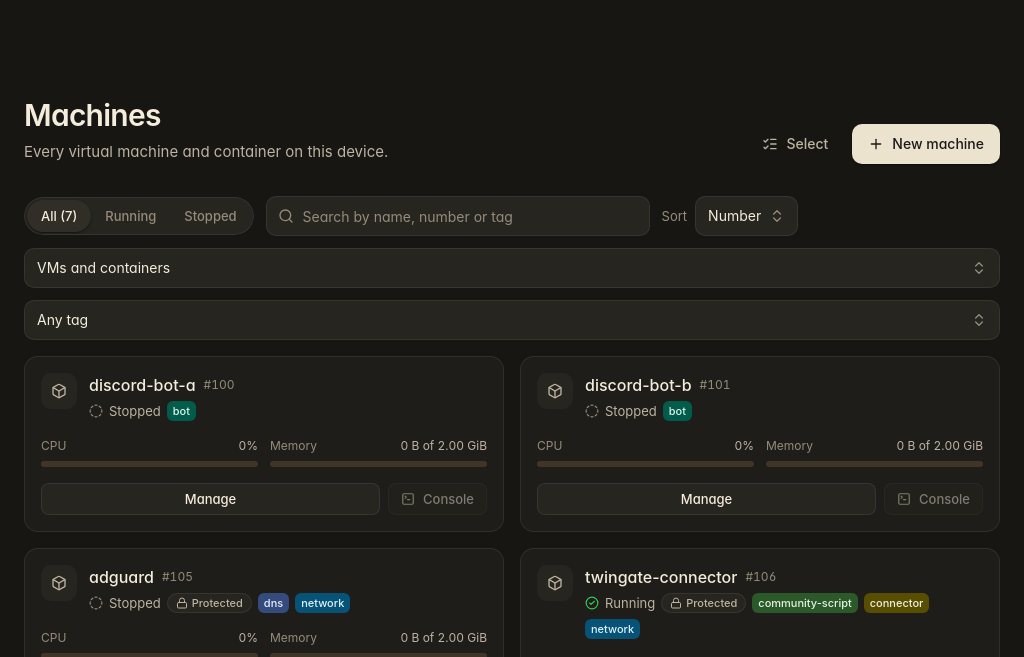
Test: power, console, snapshots, clone and delete › the machines list can select machines and asks for the count before shutting them down
Click the button "Select": x=795, y=144 [746, 124, 844, 164]
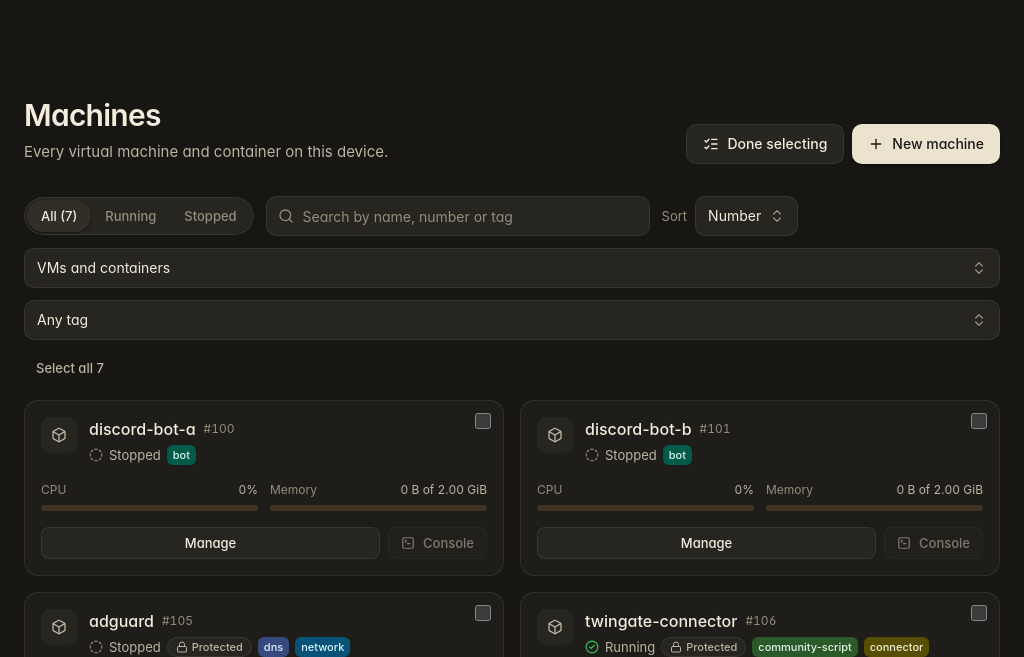
Click the checkbox named "Select discord-bot-a": x=483, y=421 [475, 413, 491, 429]
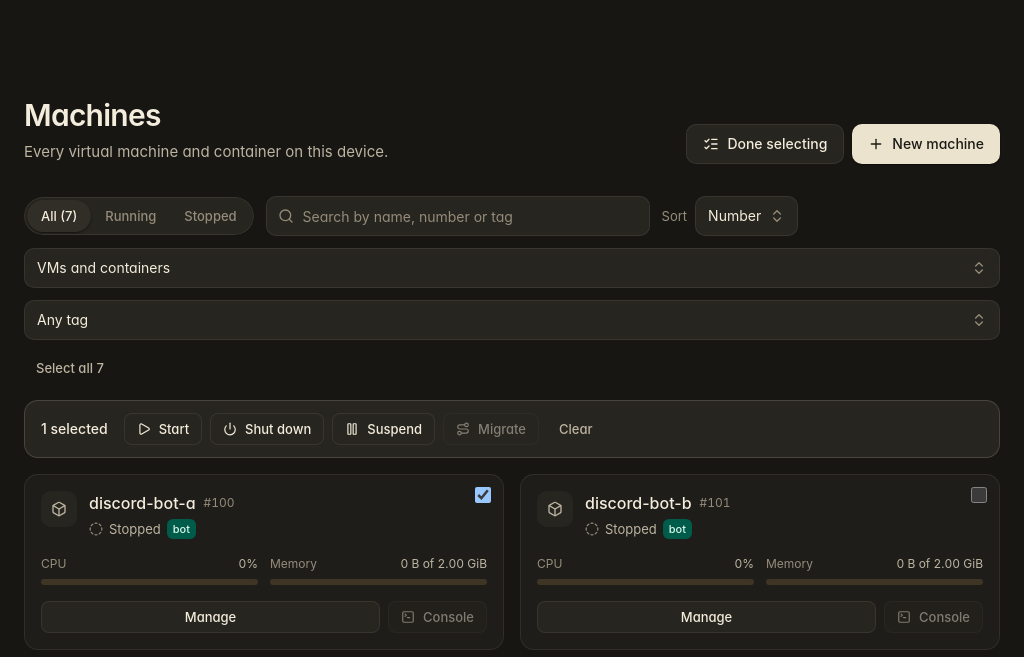
Check: the text "1 selected" is shown, box [41, 418, 108, 440]
Click the button "Shut down": x=267, y=429 [210, 413, 324, 445]
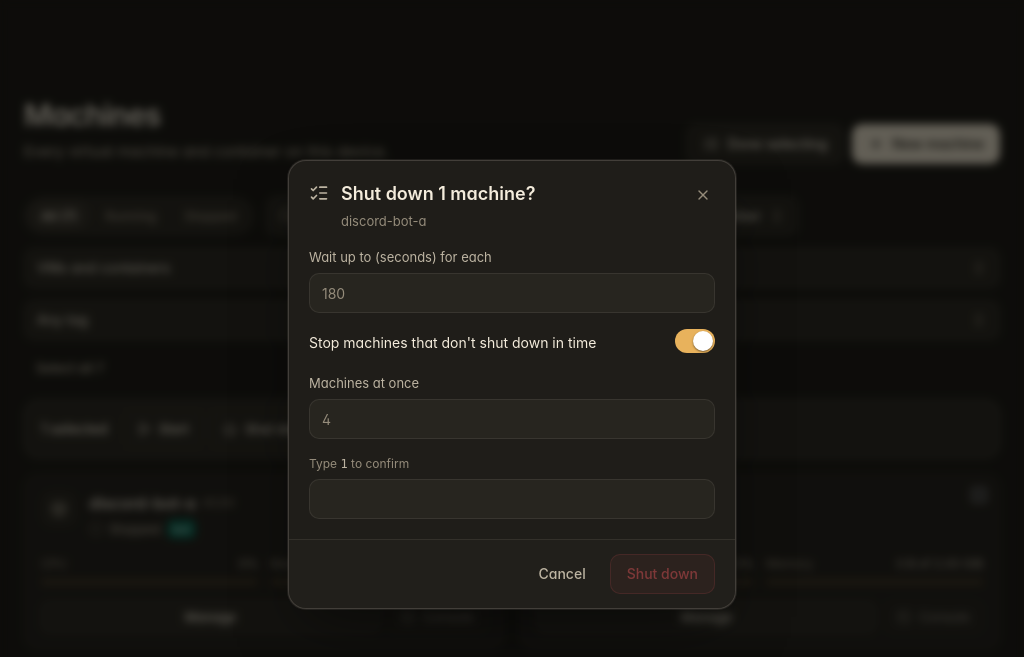
Check: the button "Shut down" is disabled, box [610, 554, 715, 594]
In the field labelled "Type 1 to confirm": x=512, y=498 [309, 478, 715, 518], type "1"
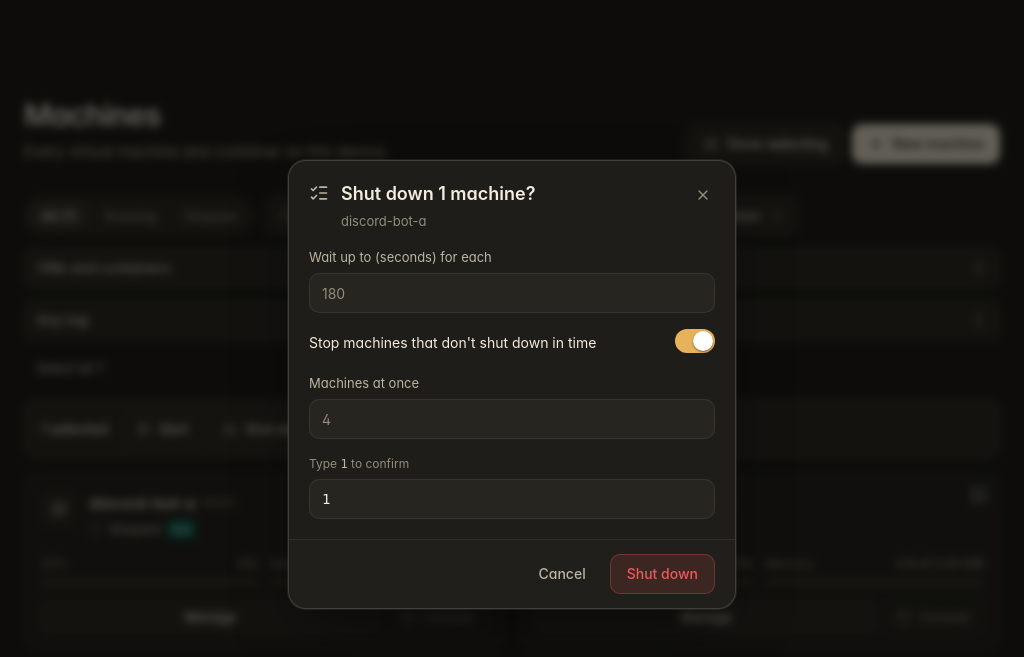
Check: the button "Shut down" is enabled, box [610, 554, 715, 594]
